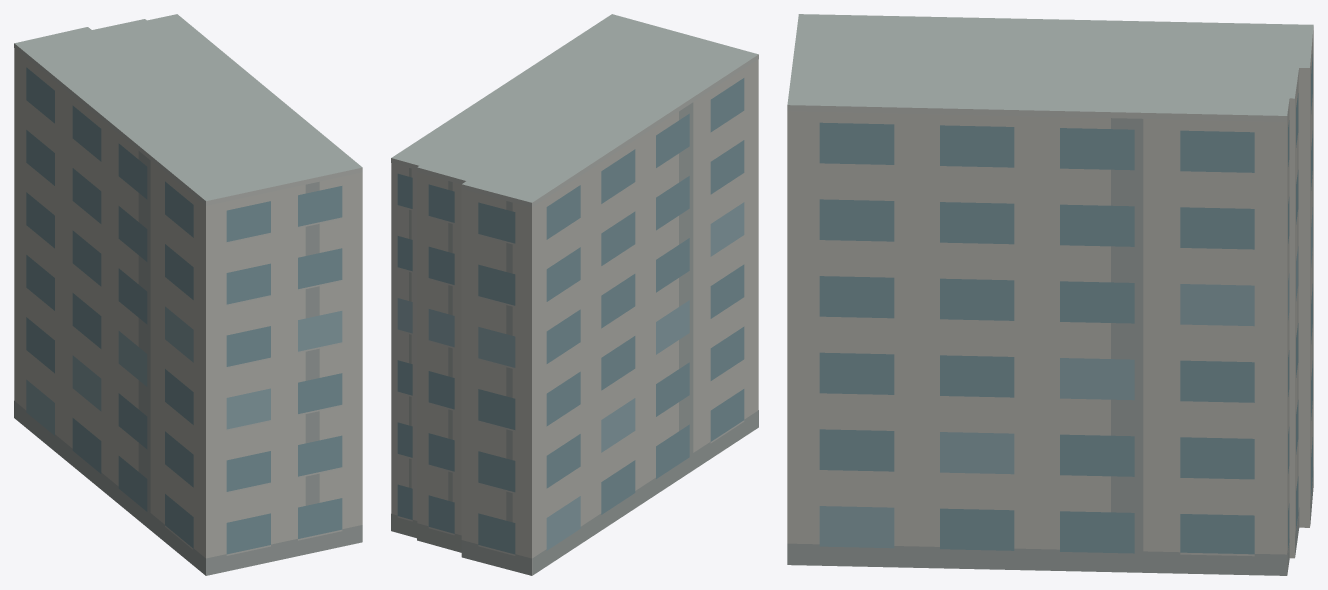
File: survey-upis-32635915.glb
3 views of the same model, side by side, from view 1: azimuth 30°, elevation 25°; view 2: azimuth 150°, elevation 25°; view 3: azimuth 270°, elevation 25° (orthographic). The views are drawn at different scales.
Visible parts, largest first — view 1: survey-upis-32635915.tmp; view 2: survey-upis-32635915.tmp; view 3: survey-upis-32635915.tmp.
Boxes of the visible parts, x1,y1,x2,y2 form: survey-upis-32635915.tmp: (14,14,362,575); survey-upis-32635915.tmp: (391,14,758,575); survey-upis-32635915.tmp: (787,14,1313,575).
Size of the model in its own units: 8.9 by 18.7 by 19.4.
